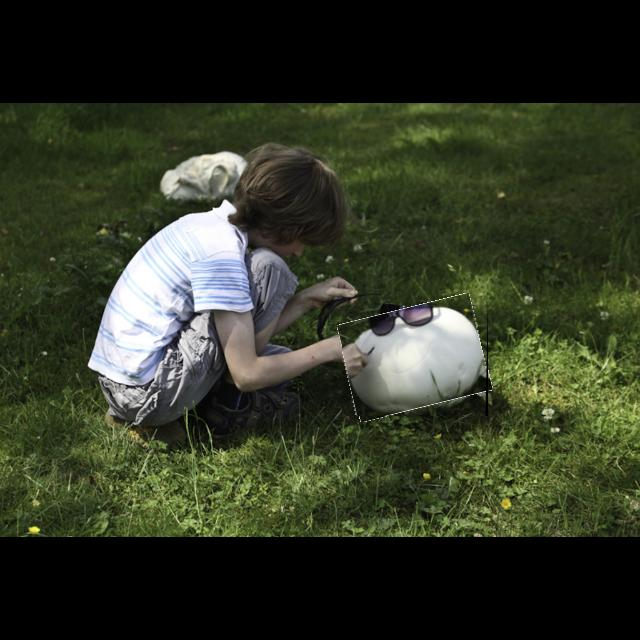Football: (342, 300, 488, 416)
